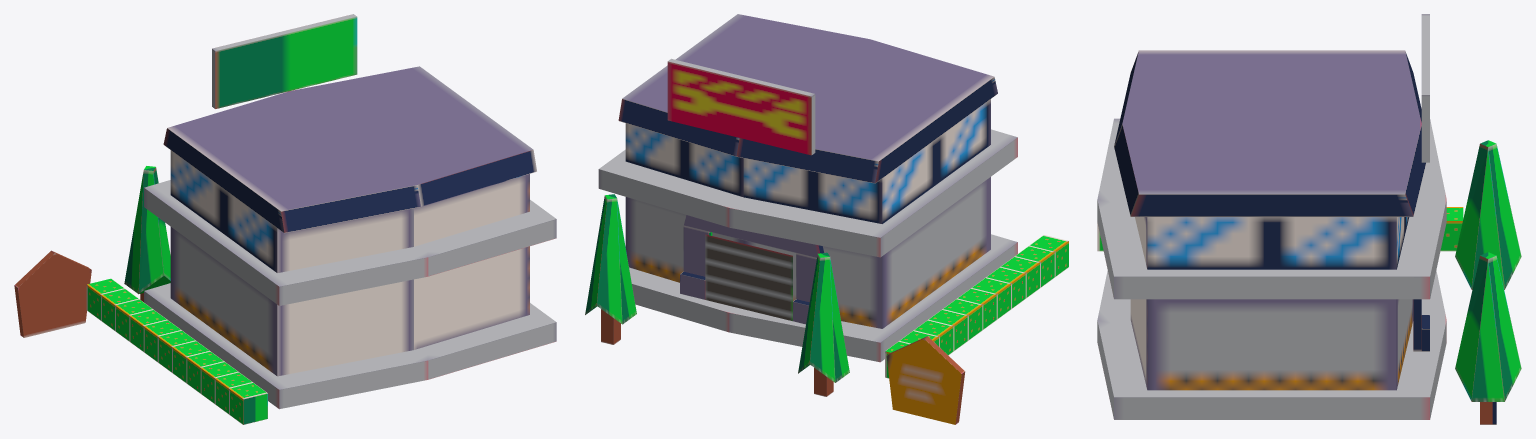
The model's file is workshop.gltf.
3 renders of one model, left to right at view 1: azimuth 30°, elevation 25°; view 2: azimuth 150°, elevation 25°; view 3: azimuth 270°, elevation 25°, orthographic. The views are drawn at different scales.
Bounding box in the file's own units: 15.5 × 10.25 × 12.75.
Materials: 1 (1 with a texture image).
